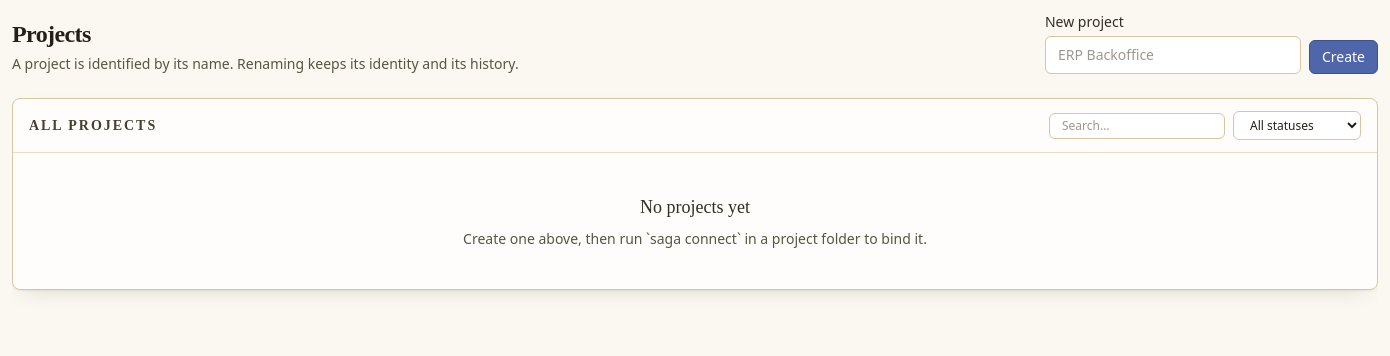
it: Projects page › reports a name conflict from the API instead of failing silently
The image size is (1390, 356).
Expected: the text "No projects yet" is shown, [640,197,750,217]
Type "Payment Gateway" into the field labelled "New project" at (1173, 55), box [1045,36,1301,74]
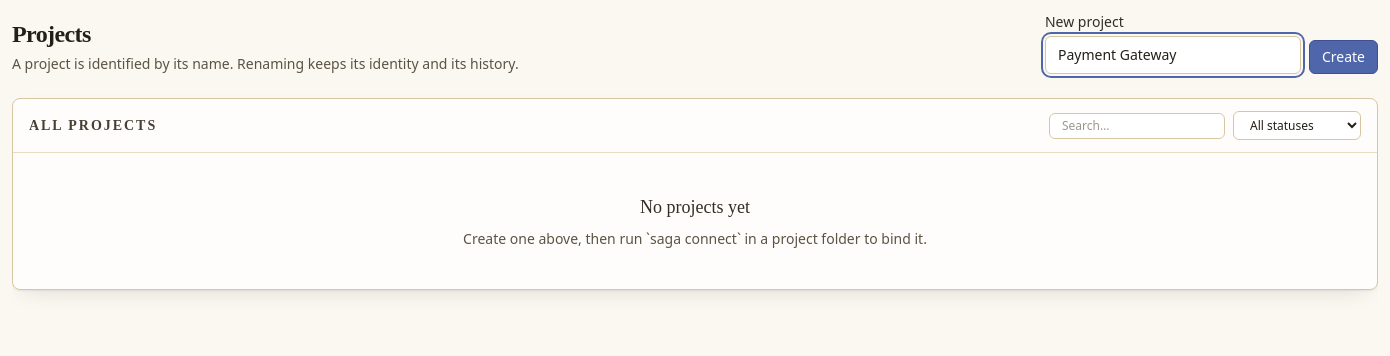
Click the button "Create" at (1343, 57), box [1309,40,1378,74]
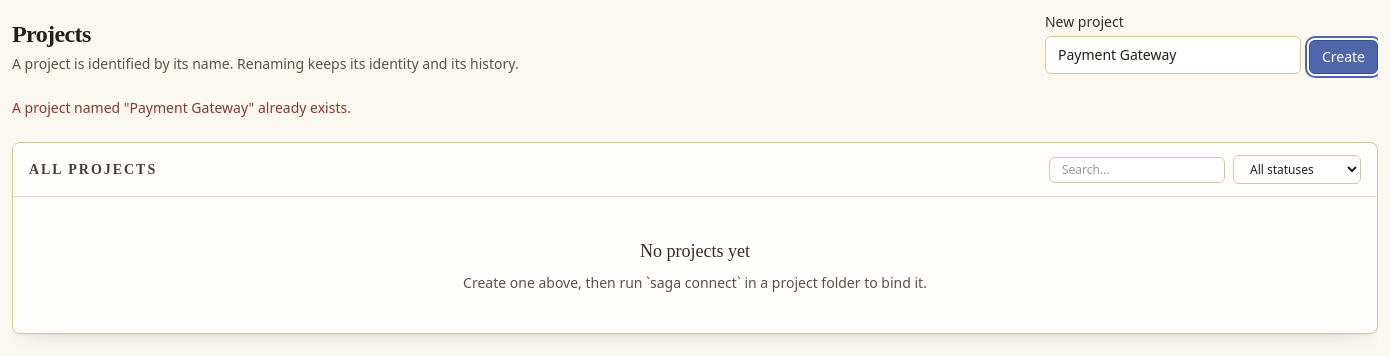
Result: the message shows "already exists" at [12,98,351,117]
